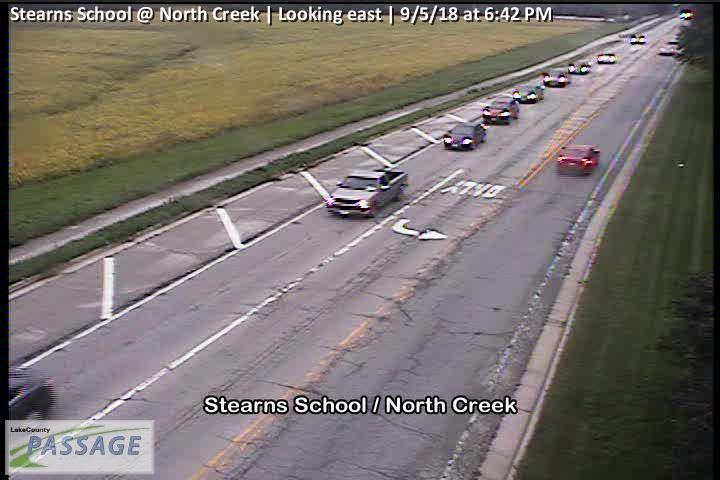SUV: (483, 97, 521, 126)
Sedan: (557, 144, 602, 175), (443, 122, 487, 152), (513, 85, 544, 103), (543, 67, 570, 87), (568, 60, 591, 73), (597, 52, 616, 64), (631, 34, 648, 44)
Truck: (326, 169, 408, 215)
